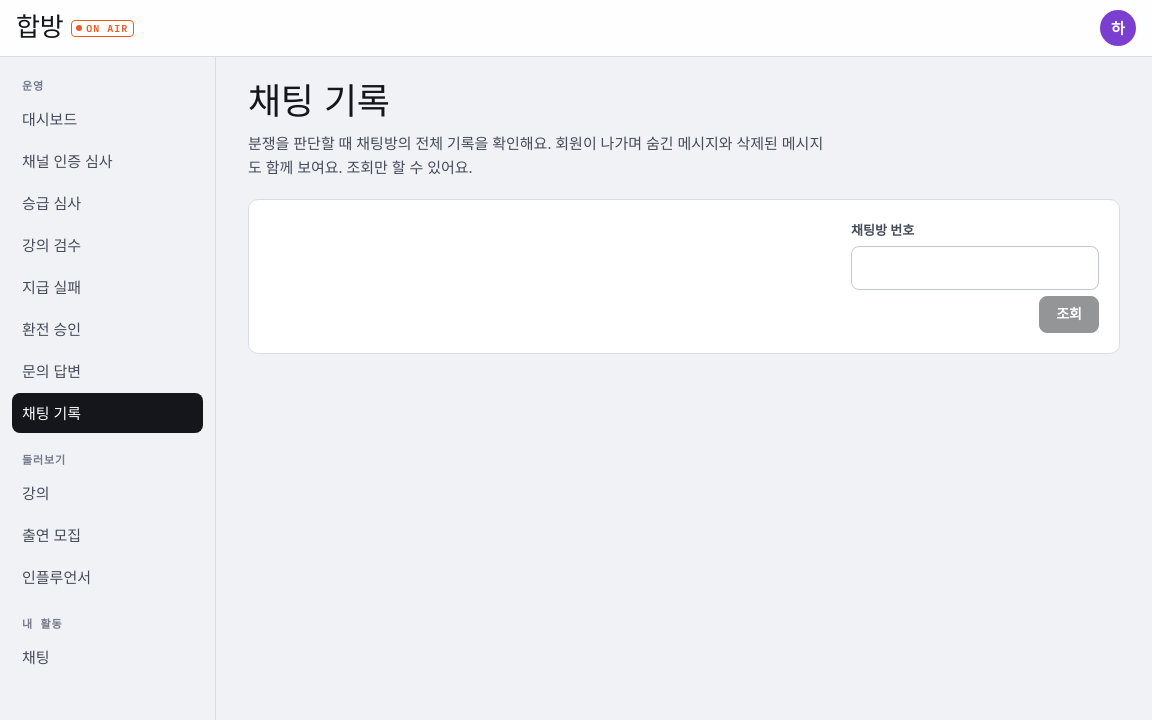
Scenario: 관리자 채팅 기록 › 운영 메뉴에서 채팅방 번호로 찾아 기록 화면으로 간다
This screenshot has width=1152, height=720.
Check: the button "조회" is disabled, box [1039,296,1099,333]
In the field labelled "채팅방 번호": [975, 268] box [851,246,1099,290], type "42"
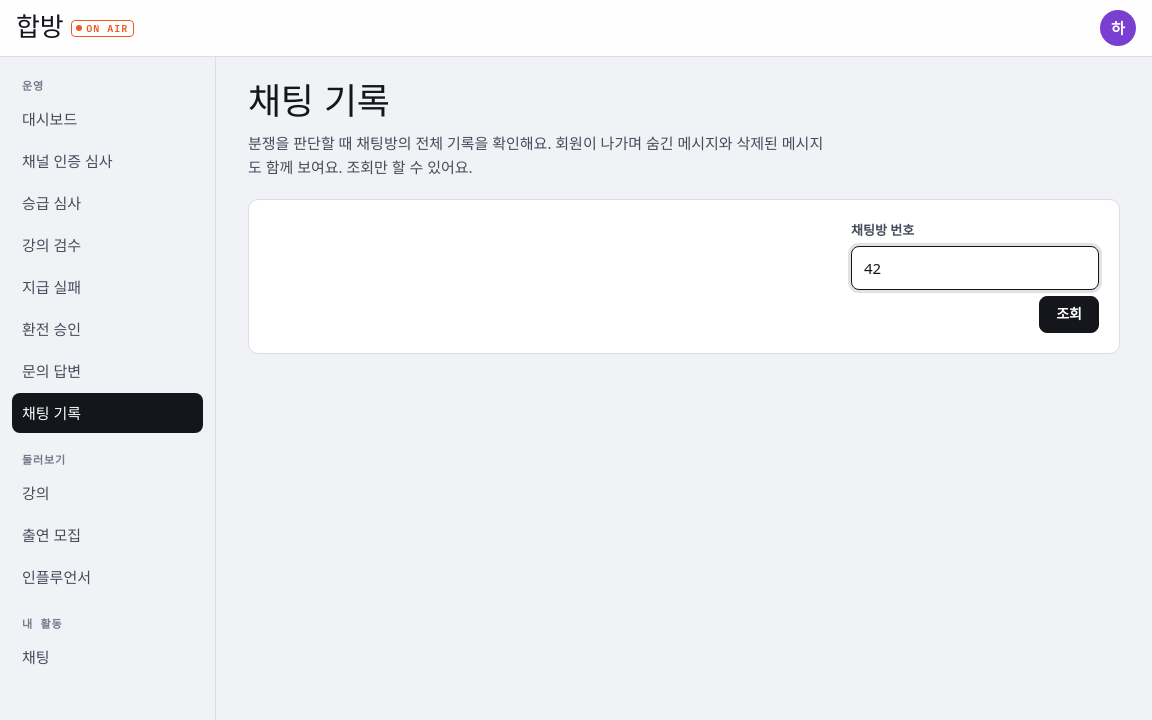
Click the button "조회": [1069, 315] box [1039,296,1099,333]
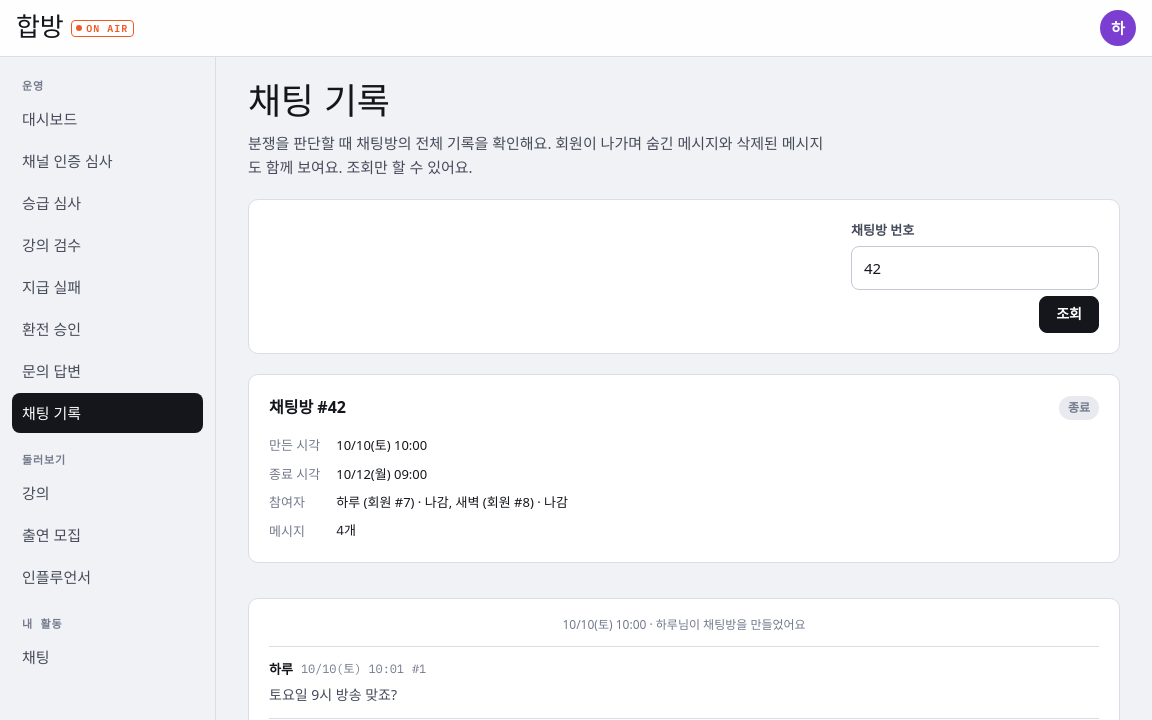
Check: the heading "채팅방 #42" is shown, box [269,395,346,421]
